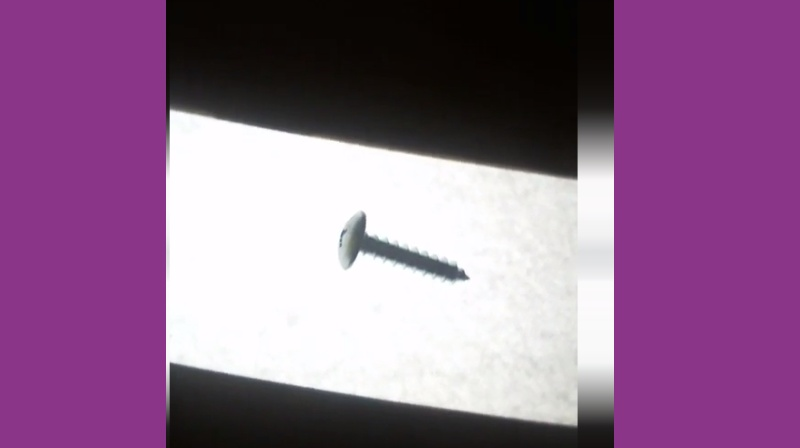S003: (331, 208, 470, 283)
